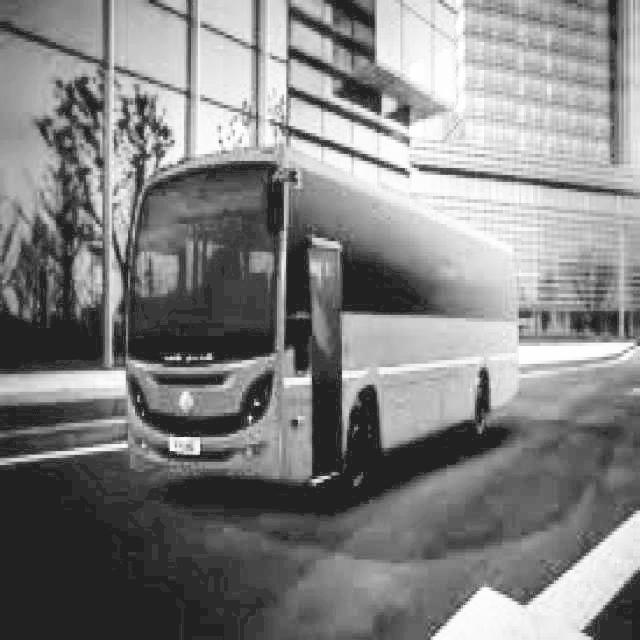Bus: (112, 133, 536, 502)
